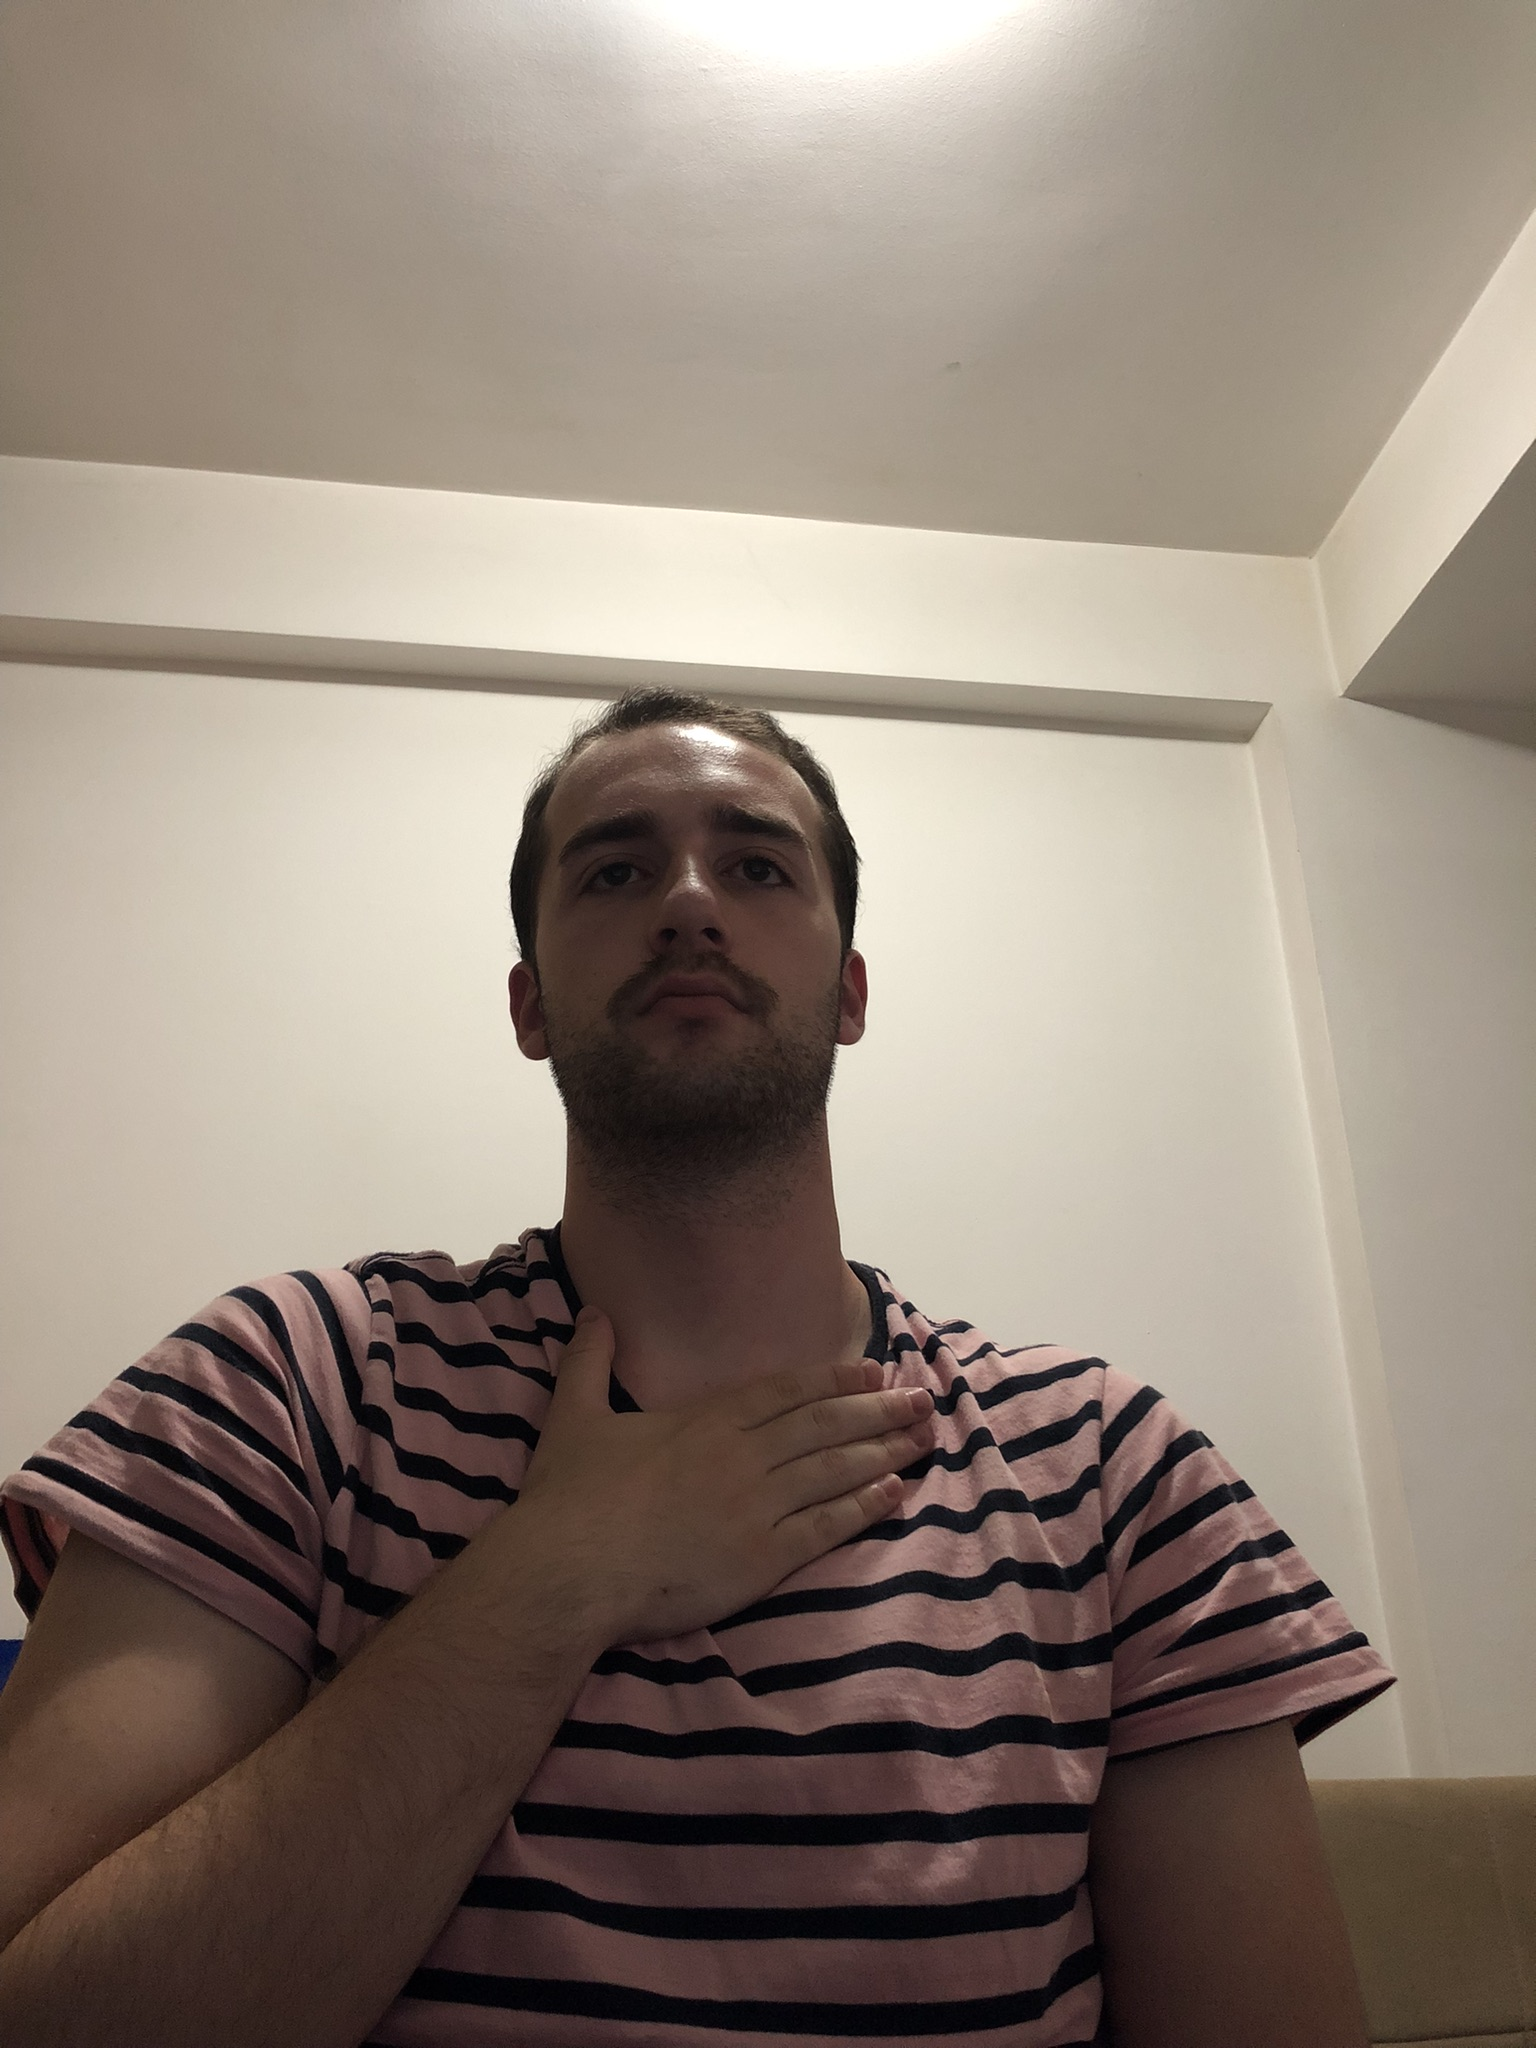Please: (3, 1305, 945, 2048)
